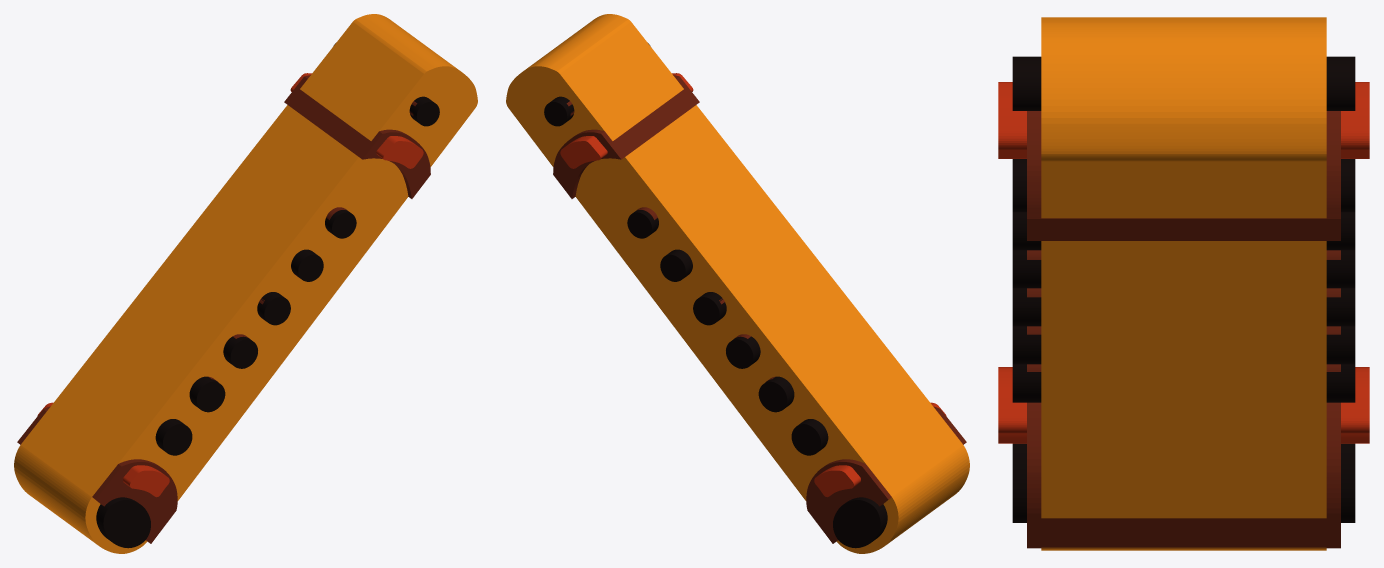
3 renders of one model, left to right at view 1: azimuth 30°, elevation 25°; view 2: azimuth 150°, elevation 25°; view 3: azimuth 270°, elevation 25°, orthographic. The views are drawn at different scales.
Visible parts, largest first — view 1: U+1FA88_layer00_obj00, U+1FA88_layer00_obj01, U+1FA88_layer01_obj03, U+1FA88_layer01_obj04, U+1FA88_layer02_obj07, U+1FA88_layer03_obj00, U+1FA88_layer02_obj03, U+1FA88_layer03_obj01, U+1FA88_layer02_obj01, U+1FA88_layer02_obj05, U+1FA88_layer02_obj00, U+1FA88_layer02_obj06 (+2 smaller); view 2: U+1FA88_layer00_obj00, U+1FA88_layer00_obj01, U+1FA88_layer01_obj03, U+1FA88_layer01_obj04, U+1FA88_layer02_obj07, U+1FA88_layer03_obj00, U+1FA88_layer02_obj03, U+1FA88_layer03_obj01, U+1FA88_layer02_obj01, U+1FA88_layer02_obj05, U+1FA88_layer02_obj00, U+1FA88_layer02_obj06 (+2 smaller); view 3: U+1FA88_layer00_obj00, U+1FA88_layer01_obj04, U+1FA88_layer01_obj03, U+1FA88_layer03_obj00, U+1FA88_layer03_obj01, U+1FA88_layer02_obj02, U+1FA88_layer02_obj07, U+1FA88_layer02_obj03, U+1FA88_layer02_obj01, U+1FA88_layer02_obj05, U+1FA88_layer02_obj00, U+1FA88_layer02_obj04 (+2 smaller).
Boxes of the visible parts, x1,y1,x2,y2 form: U+1FA88_layer00_obj00: [21, 14, 477, 500]; U+1FA88_layer00_obj01: [14, 444, 147, 553]; U+1FA88_layer01_obj03: [284, 75, 430, 198]; U+1FA88_layer01_obj04: [17, 406, 177, 543]; U+1FA88_layer02_obj07: [96, 497, 150, 548]; U+1FA88_layer03_obj00: [290, 73, 423, 168]; U+1FA88_layer02_obj03: [155, 419, 192, 455]; U+1FA88_layer03_obj01: [37, 402, 169, 497]; U+1FA88_layer02_obj01: [189, 376, 225, 412]; U+1FA88_layer02_obj05: [223, 336, 257, 368]; U+1FA88_layer02_obj00: [257, 292, 290, 325]; U+1FA88_layer02_obj06: [291, 249, 323, 281]; U+1FA88_layer00_obj00: [506, 14, 962, 500]; U+1FA88_layer00_obj01: [836, 444, 969, 553]; U+1FA88_layer01_obj03: [553, 75, 699, 198]; U+1FA88_layer01_obj04: [806, 406, 966, 543]; U+1FA88_layer02_obj07: [833, 497, 887, 548]; U+1FA88_layer03_obj00: [560, 73, 693, 168]; U+1FA88_layer02_obj03: [791, 419, 828, 455]; U+1FA88_layer03_obj01: [814, 402, 946, 497]; U+1FA88_layer02_obj01: [758, 376, 794, 412]; U+1FA88_layer02_obj05: [726, 336, 760, 368]; U+1FA88_layer02_obj00: [693, 292, 726, 325]; U+1FA88_layer02_obj06: [660, 249, 692, 281]; U+1FA88_layer00_obj00: [1041, 17, 1326, 518]; U+1FA88_layer01_obj04: [1027, 402, 1340, 548]; U+1FA88_layer01_obj03: [1027, 111, 1340, 240]; U+1FA88_layer03_obj00: [998, 82, 1369, 158]; U+1FA88_layer03_obj01: [998, 367, 1369, 443]; U+1FA88_layer02_obj02: [1012, 56, 1355, 110]; U+1FA88_layer02_obj07: [1012, 443, 1355, 522]; U+1FA88_layer02_obj03: [1012, 364, 1355, 402]; U+1FA88_layer02_obj01: [1012, 326, 1355, 364]; U+1FA88_layer02_obj05: [1012, 288, 1355, 326]; U+1FA88_layer02_obj00: [1012, 250, 1355, 288]; U+1FA88_layer02_obj04: [1012, 159, 1355, 212].
Size of the model in its own units: 0.3175 by 0.3173 by 0.13.
